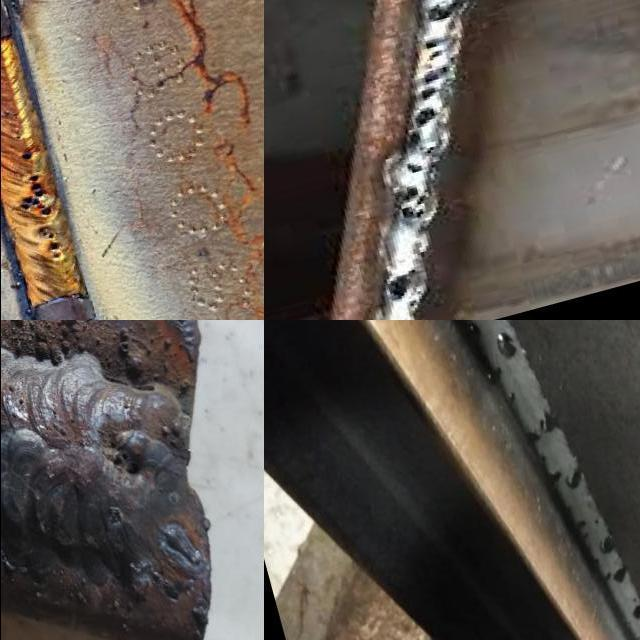defect: (9, 168, 54, 218), (414, 35, 446, 102), (391, 180, 438, 224), (404, 102, 438, 150), (420, 0, 475, 25), (387, 265, 423, 300), (107, 447, 142, 479), (36, 224, 65, 261), (534, 403, 562, 436), (493, 329, 517, 364), (105, 505, 126, 534), (603, 563, 628, 586), (565, 468, 584, 492), (402, 158, 427, 176), (484, 367, 503, 387), (600, 533, 614, 559), (464, 321, 481, 339), (630, 593, 640, 623), (545, 467, 562, 484), (526, 429, 542, 446), (19, 149, 37, 164), (578, 519, 589, 542), (507, 390, 518, 406), (539, 455, 548, 464), (591, 516, 600, 525)
